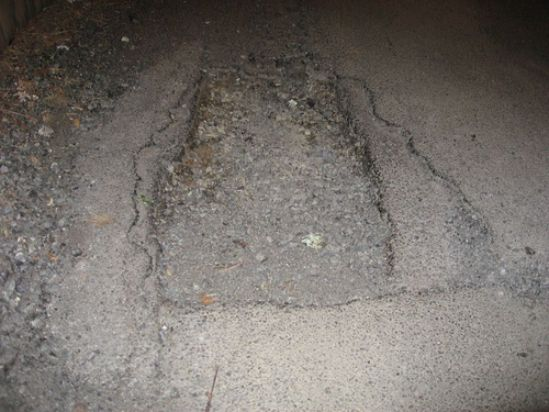pothole: (132, 47, 497, 319), (144, 46, 398, 316)
